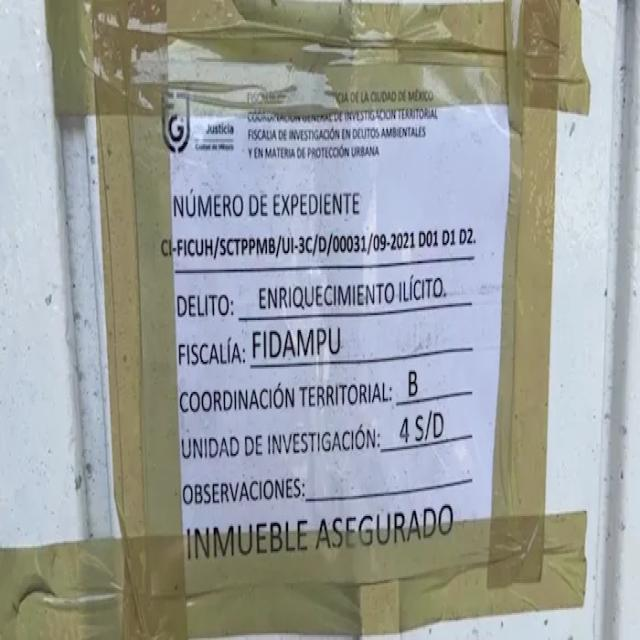stamps: (143, 64, 501, 593)
